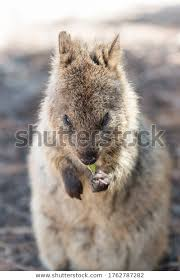quokka: (19, 31, 175, 280)
